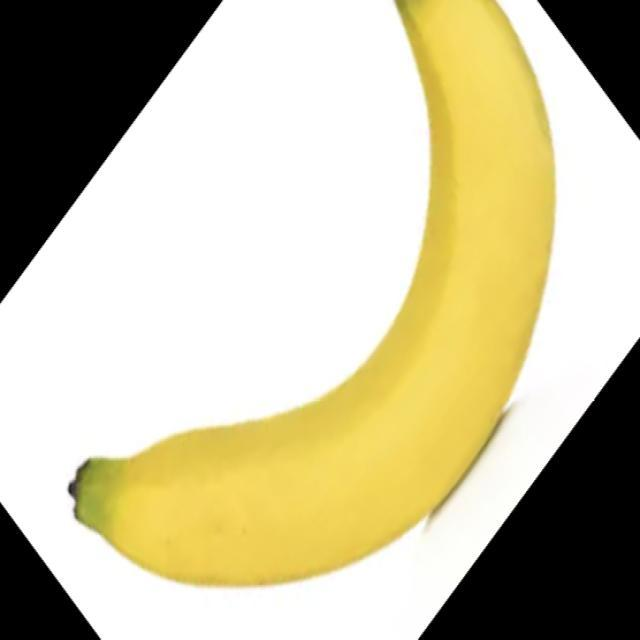Banana: (66, 0, 556, 587)
